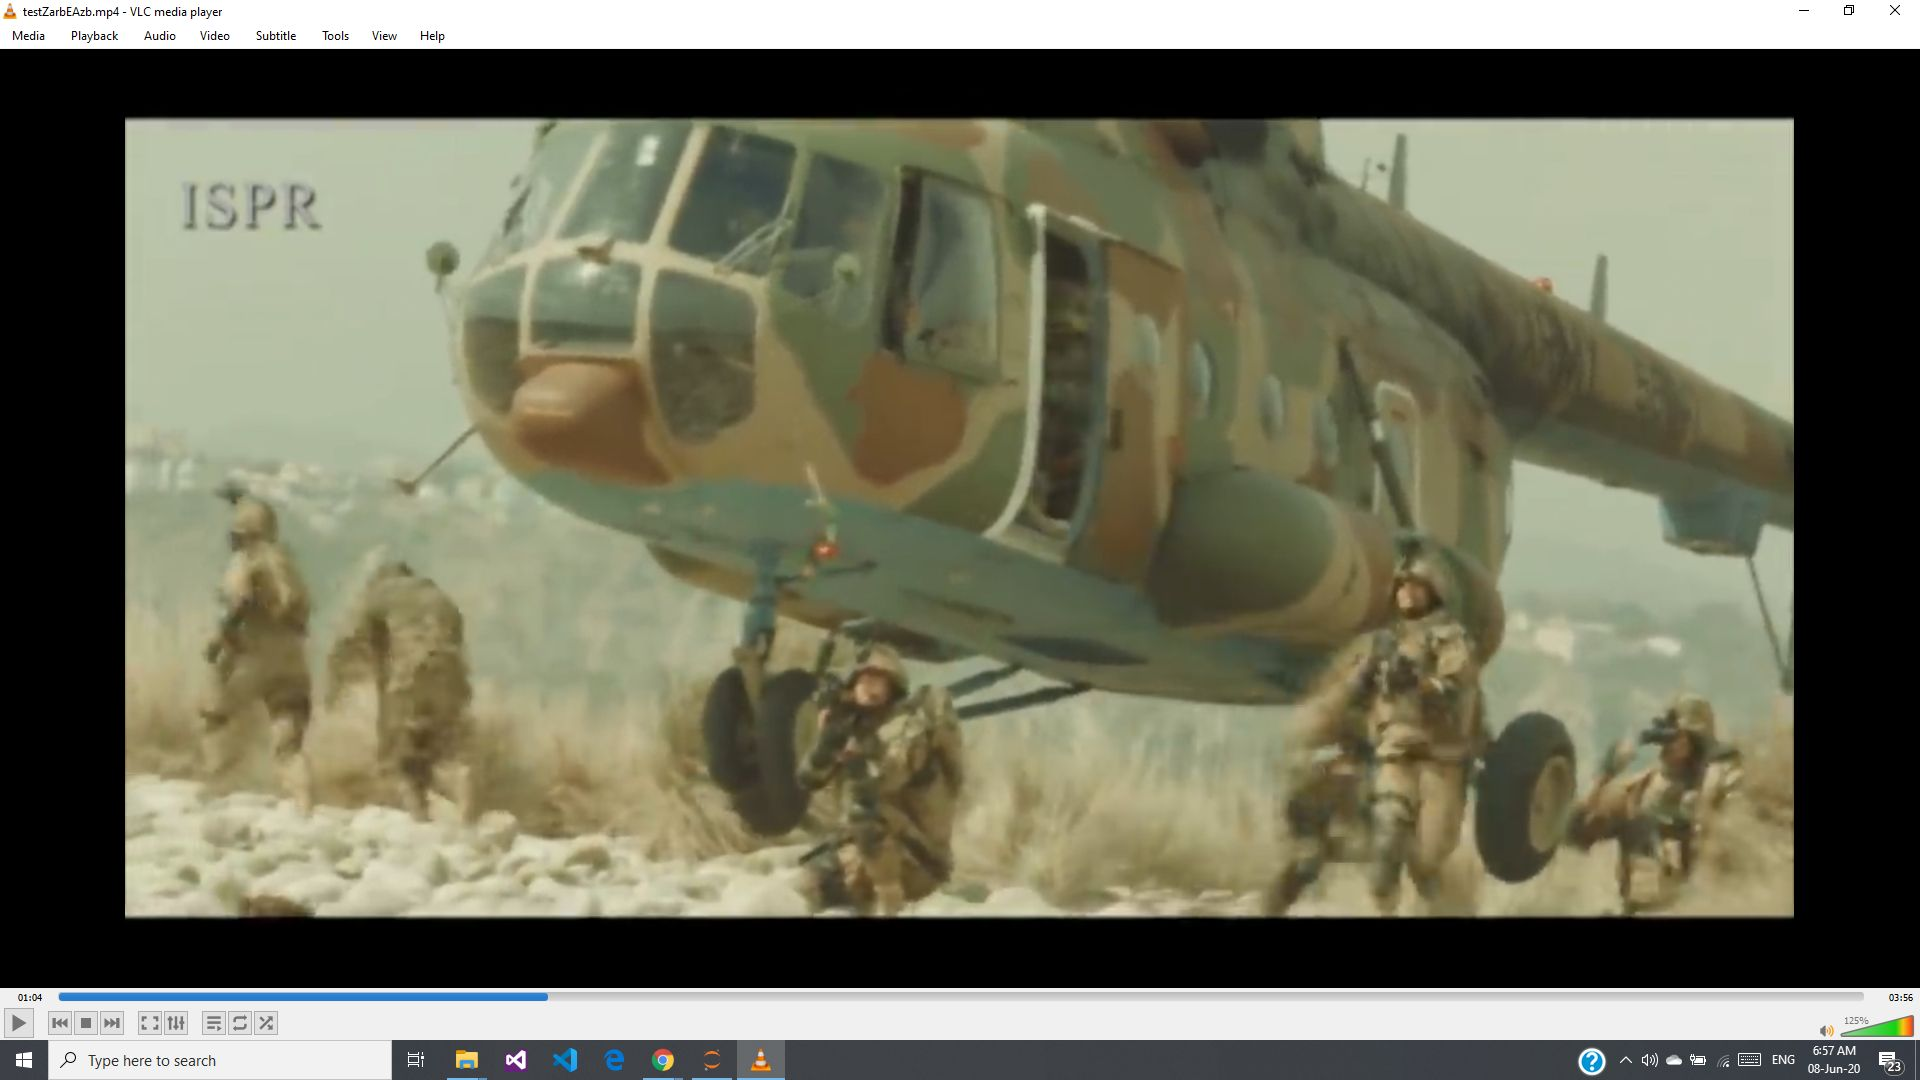gun: (783, 661, 880, 756), (1350, 629, 1447, 709)
uniform: (1338, 550, 1516, 889), (795, 626, 969, 901), (1575, 645, 1754, 910), (196, 451, 313, 793), (343, 534, 479, 818)
